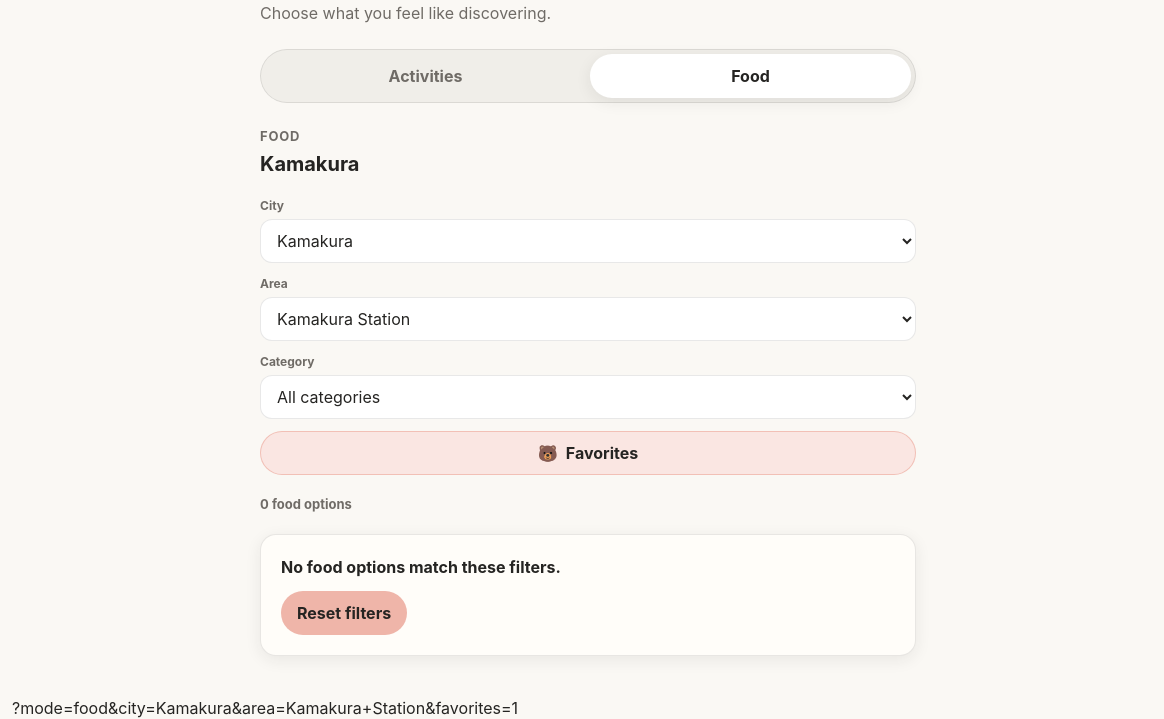
Test: Explore Food real catalogue › normalizes invalid category and resets filters while preserving city
The image size is (1164, 719).
(page scrolled)
Click the button "Reset filters" at x=344, y=613, box 281,591 -> 407,635
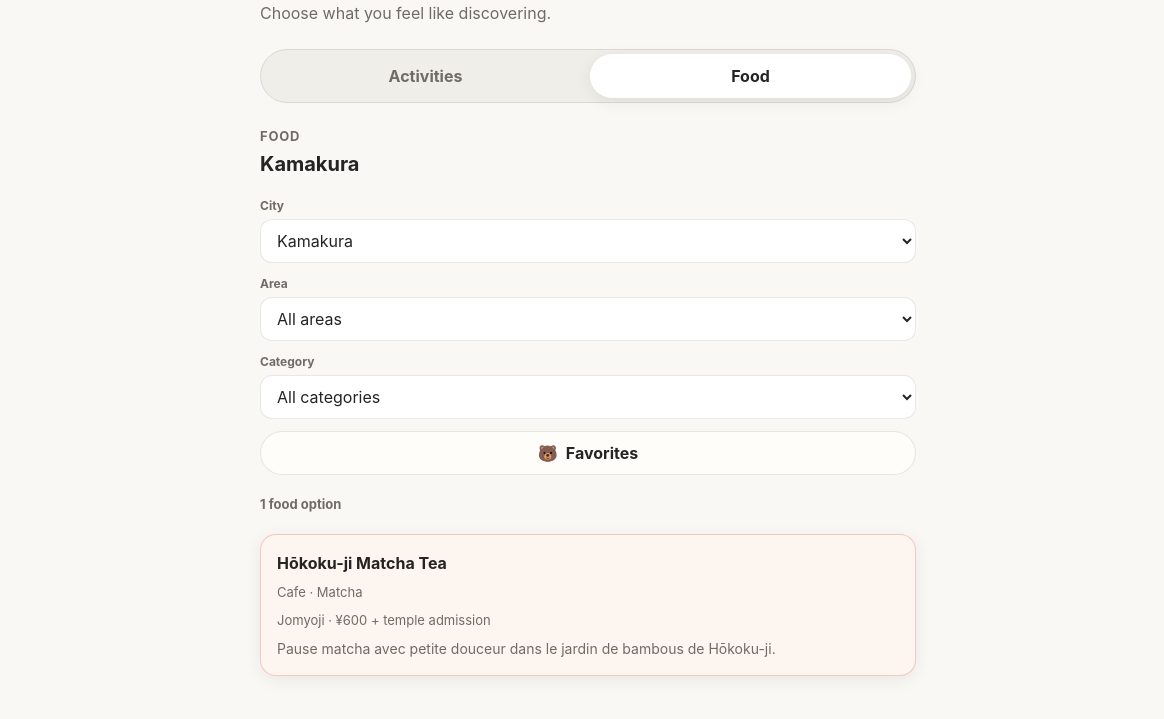
Result: the button "Hōkoku-ji Matcha Tea" is shown at 260,534 -> 916,676
